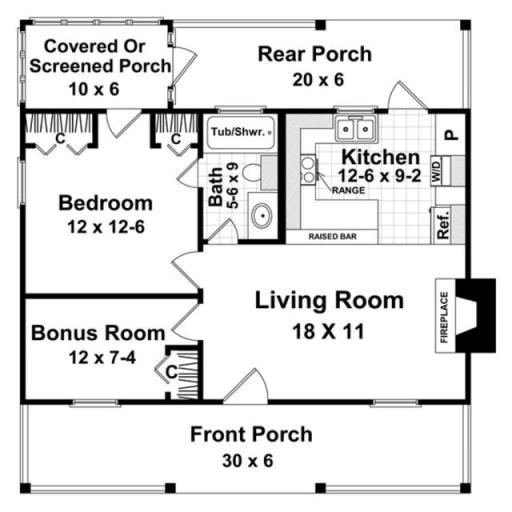Room: (26, 314, 202, 399)
bathroom: (208, 117, 281, 237)
bedroom: (24, 118, 204, 304)
hall: (212, 243, 474, 400)
kitchen: (296, 111, 468, 243)
porch: (28, 403, 463, 488), (180, 25, 464, 113), (34, 18, 176, 104)
